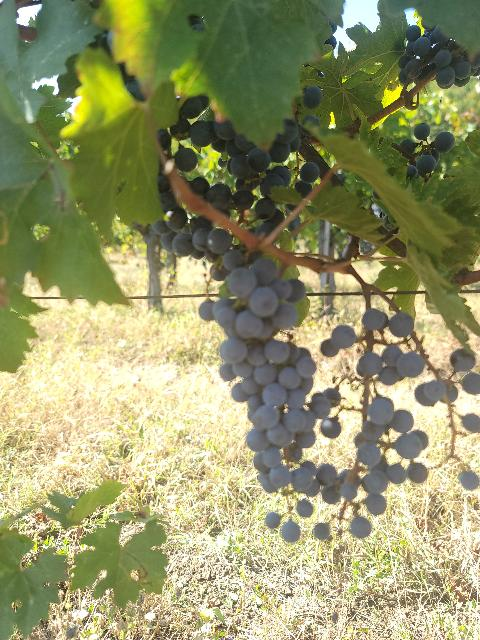grapes: (199, 258, 341, 492), (330, 315, 446, 530)
